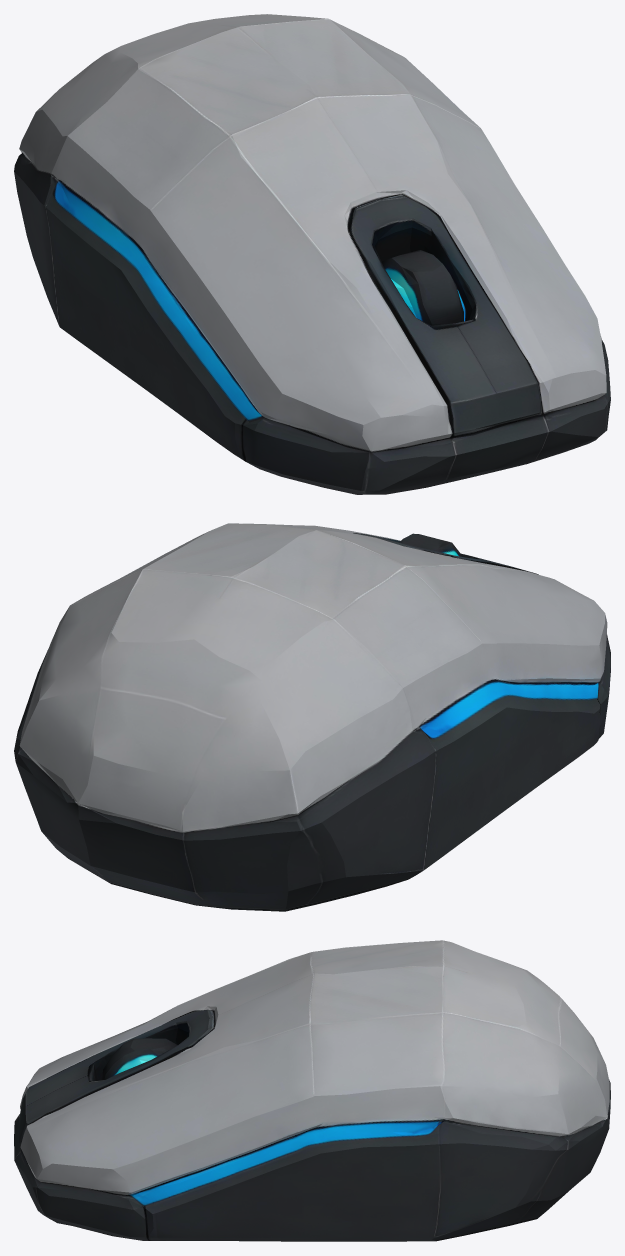
The model's file is mouse.fbx.
3 views of the same model, one above another, from view 1: azimuth 30°, elevation 25°; view 2: azimuth 150°, elevation 25°; view 3: azimuth 270°, elevation 25° (orthographic). The views are drawn at different scales.
Visible parts, largest first — view 1: Mesh.004; view 2: Mesh.004; view 3: Mesh.004.
Part boxes in pixels (x1,y1,x2,y2): Mesh.004: (14,14,610,494); Mesh.004: (14,523,610,911); Mesh.004: (14,940,610,1241).
Size of the model in its own units: 24.93 by 16.13 by 41.22.
1 material, 1 textured.
